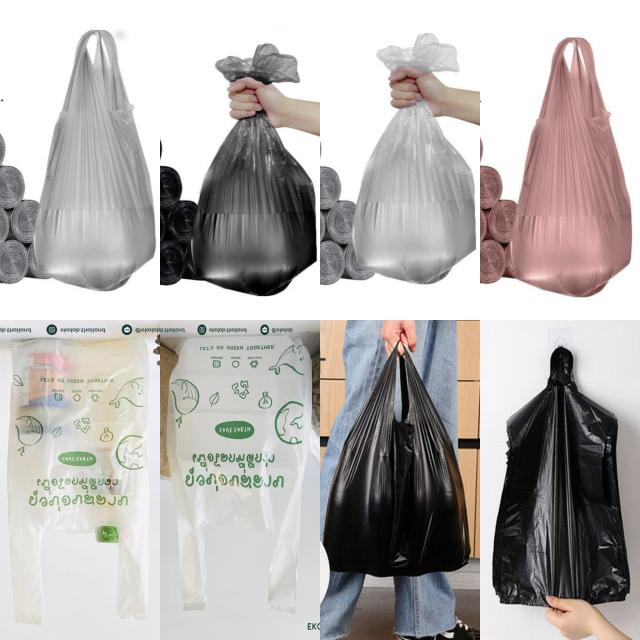Single-layer Plastic: (8, 339, 149, 624), (168, 336, 311, 611), (492, 346, 629, 606), (188, 44, 320, 307), (352, 25, 482, 292), (324, 345, 470, 576), (34, 30, 155, 290), (511, 38, 631, 296)
